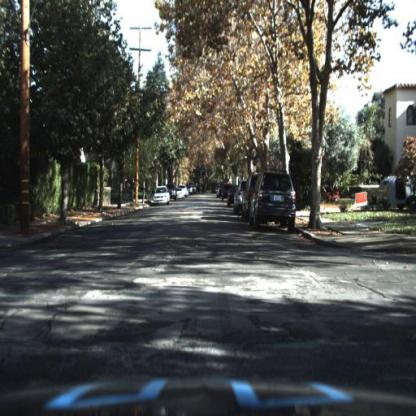car: (250, 169, 297, 232), (243, 170, 255, 228), (234, 178, 246, 217), (154, 185, 172, 208), (153, 187, 171, 206), (169, 183, 179, 206), (174, 184, 185, 202)
